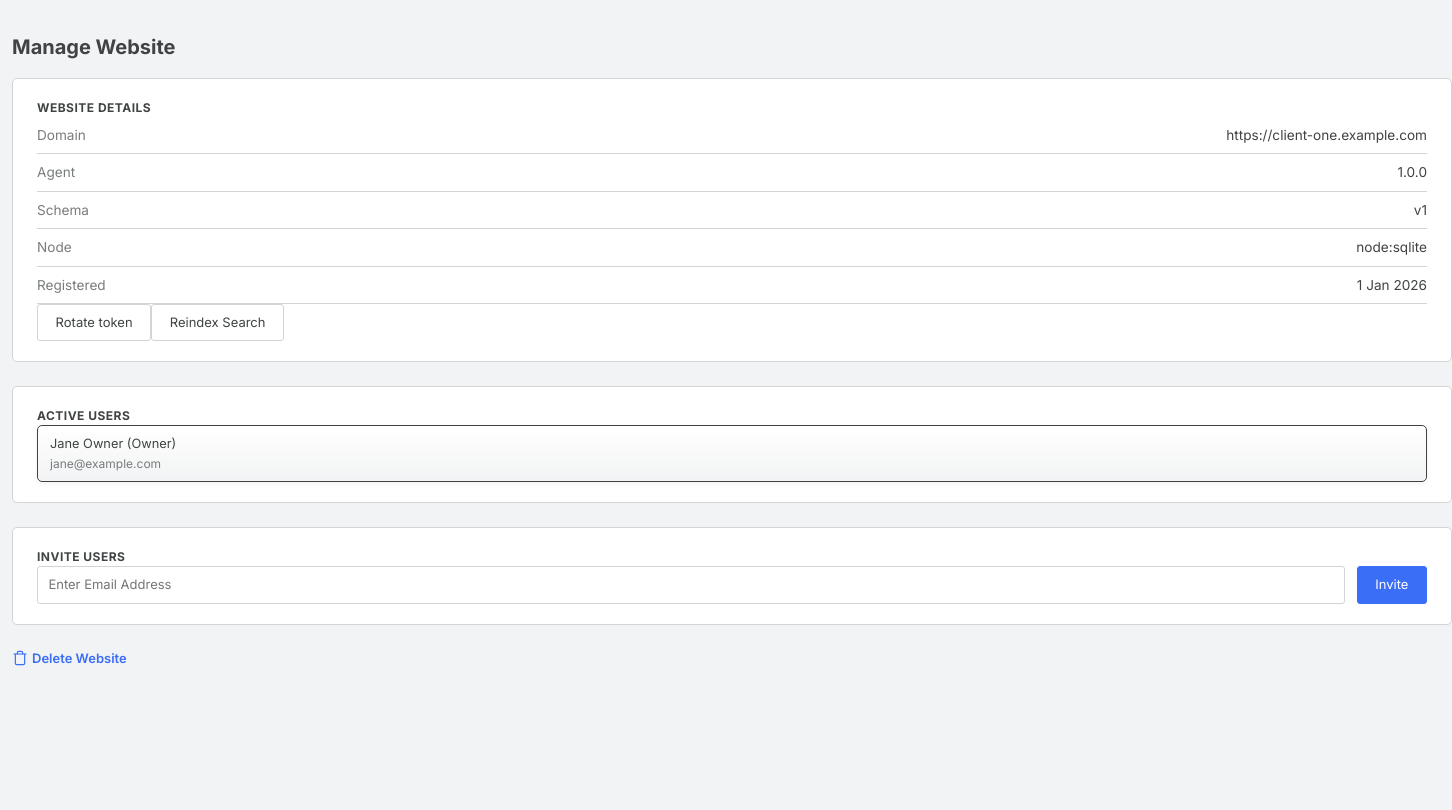
Test: ManageSitePage › Reindex Search surfaces a friendly cooldown message on a 429, using the Retry-After header
expect the text "https://client-one.example.com" is shown: met, box [1226,125,1427,145]
Click the button "Reindex Search" at coordinates (218, 323), box [151,304,284,342]
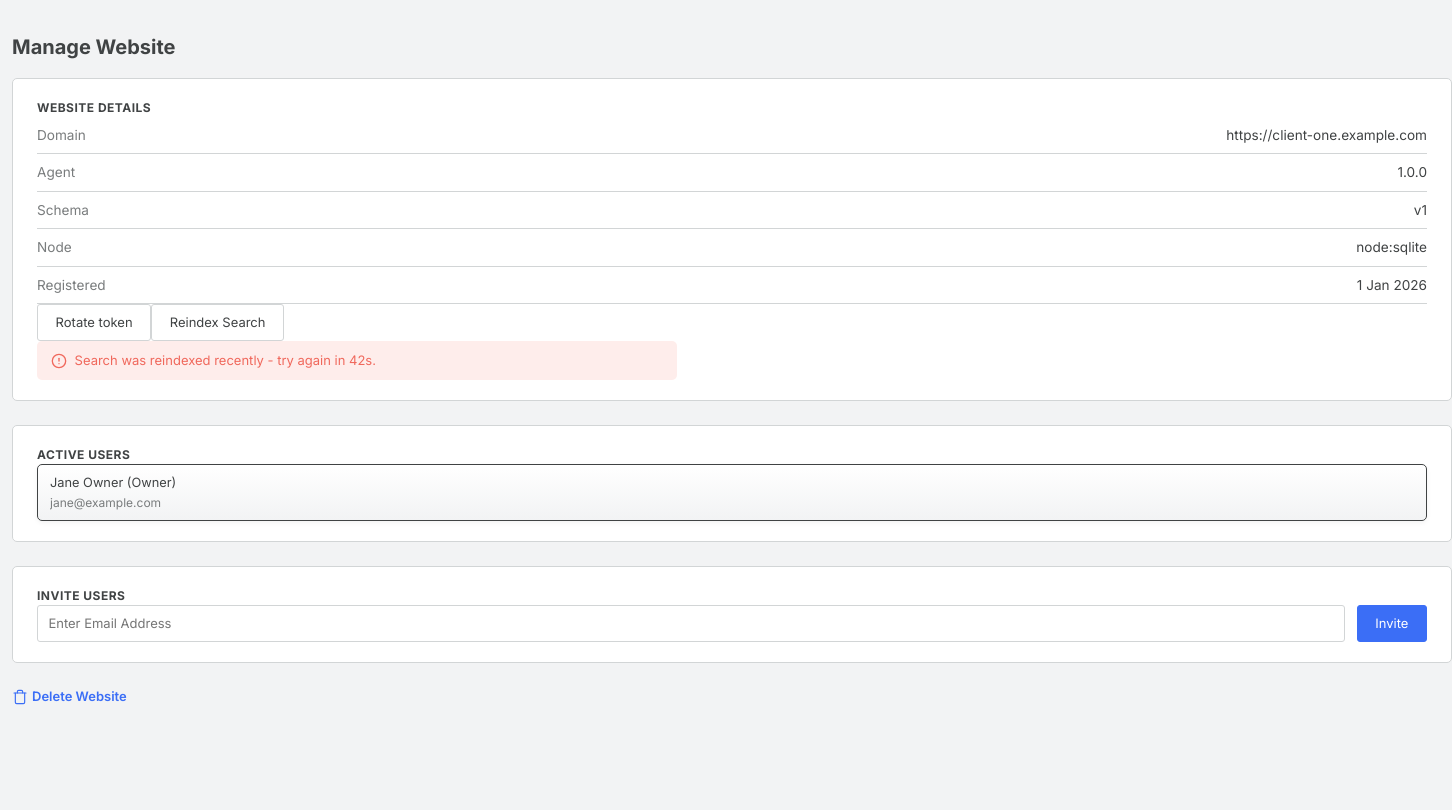
expect the text "Search was reindexed recently - try again in 42s." is shown: met, box [37,342,677,380]
